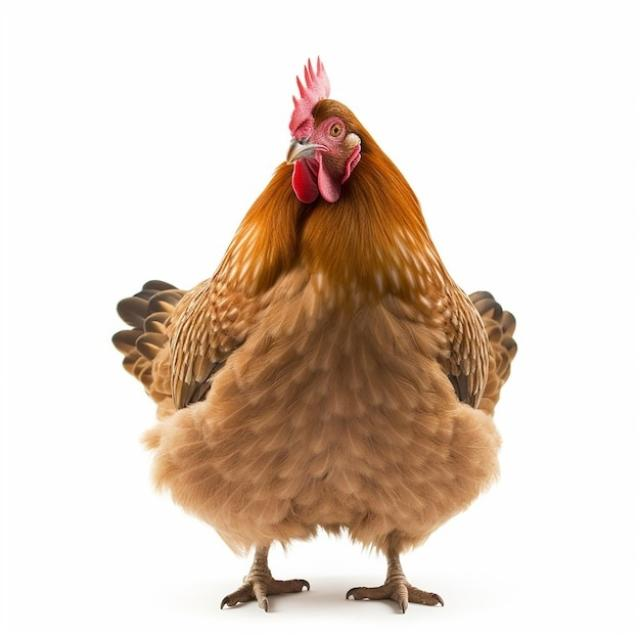Chicken: (110, 54, 518, 612)
